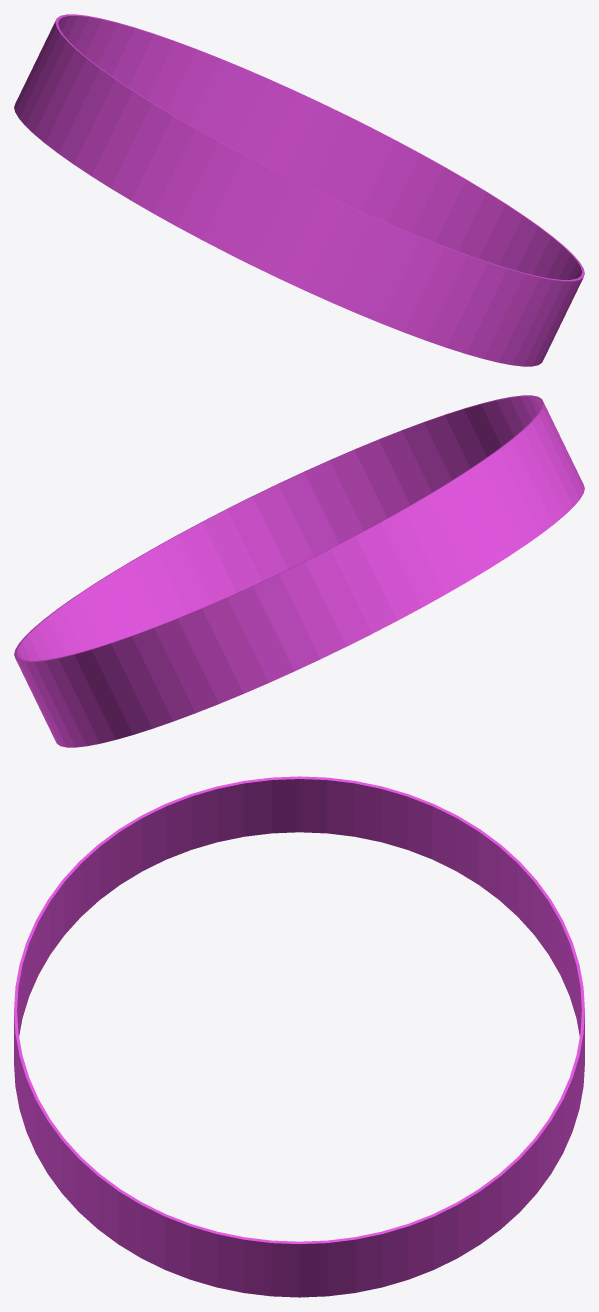
Rendered from obi.glb.
The picture shows the model from 3 angles, top to bottom: view 1: azimuth 30°, elevation 25°; view 2: azimuth 150°, elevation 25°; view 3: azimuth 270°, elevation 25°; orthographic projection. The views are drawn at different scales.
Visible parts, largest first — view 1: obi; view 2: obi; view 3: obi.
Boxes of the visible parts, bbox=[...] form: obi: bbox=[14, 14, 584, 366]; obi: bbox=[14, 395, 584, 747]; obi: bbox=[14, 776, 584, 1297].
Size of the model in its own units: 12.56 by 8.5 by 13.26.
